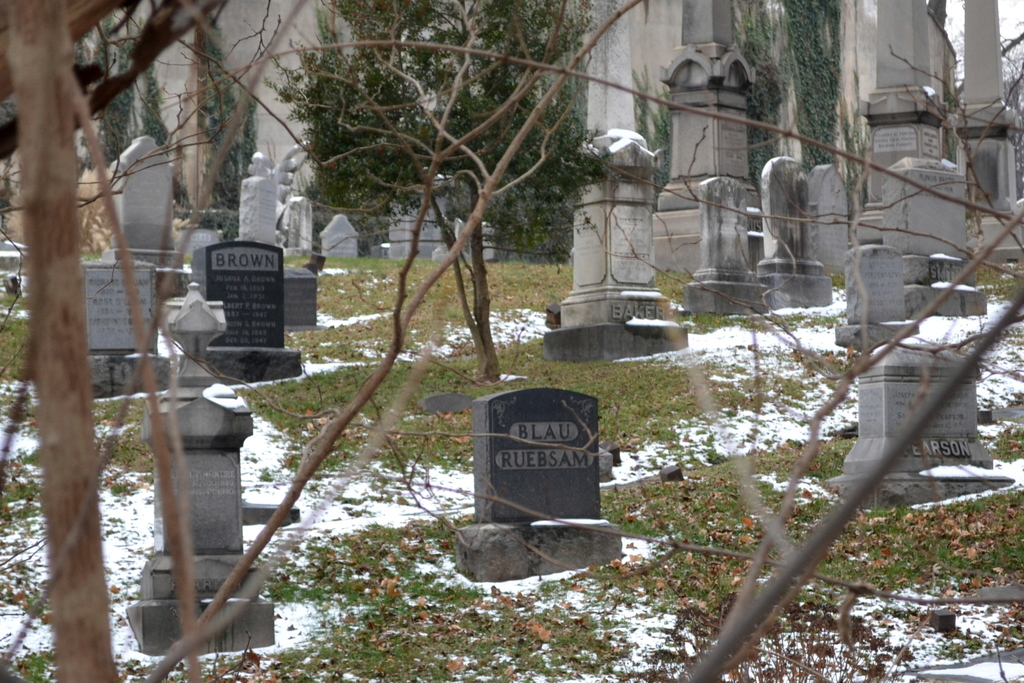Tree: (0, 0, 1023, 682), (252, 0, 613, 379)
